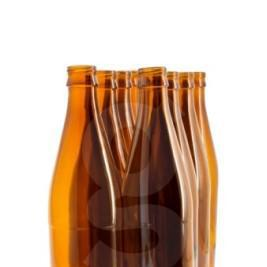beer: (51, 65, 219, 267)
